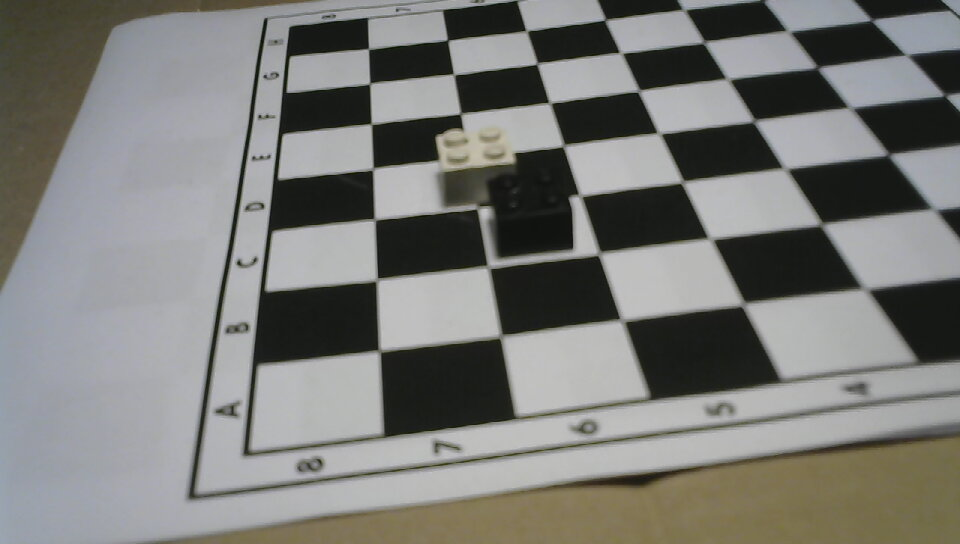bp: (482, 163, 579, 264)
